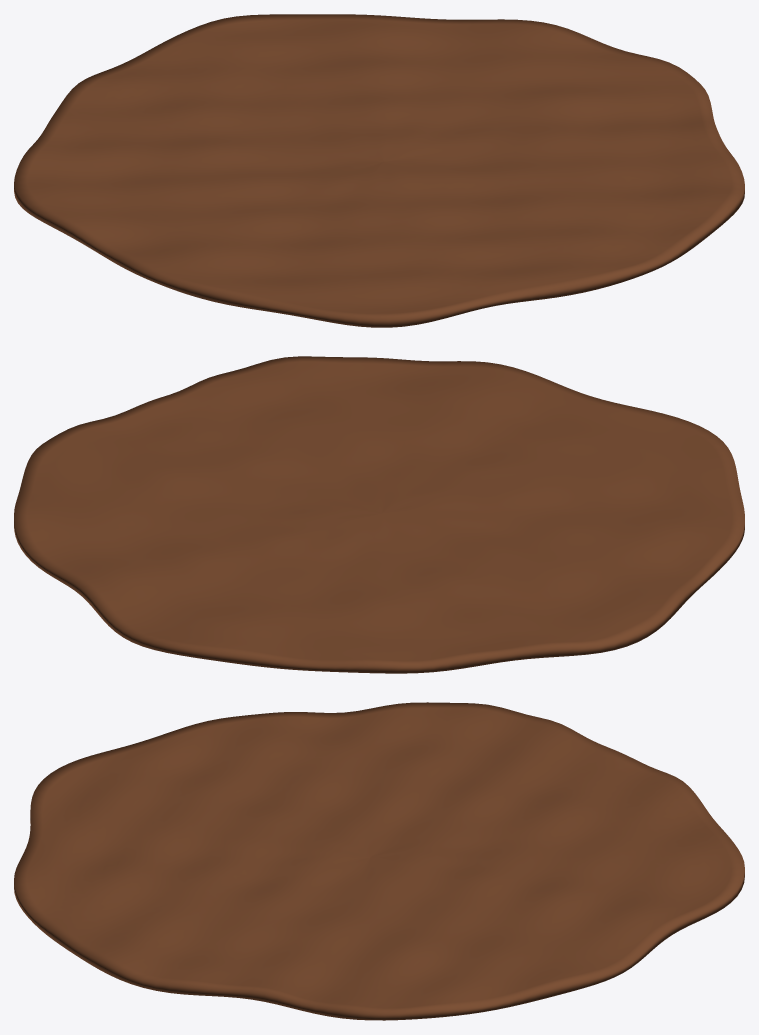
The model's file is sauce-smoky.glb.
The picture shows the model from 3 angles, top to bottom: view 1: azimuth 30°, elevation 25°; view 2: azimuth 150°, elevation 25°; view 3: azimuth 270°, elevation 25°; orthographic projection. The views are drawn at different scales.
Visible parts, largest first — view 1: Thin smoky sauce spread; view 2: Thin smoky sauce spread; view 3: Thin smoky sauce spread.
Part boxes in pixels (x1,y1,x2,y2): Thin smoky sauce spread: (14, 14, 744, 327); Thin smoky sauce spread: (14, 356, 744, 673); Thin smoky sauce spread: (14, 702, 744, 1020).
Bounding box in the file's own units: 2.08 × 0.0398 × 2.07.
